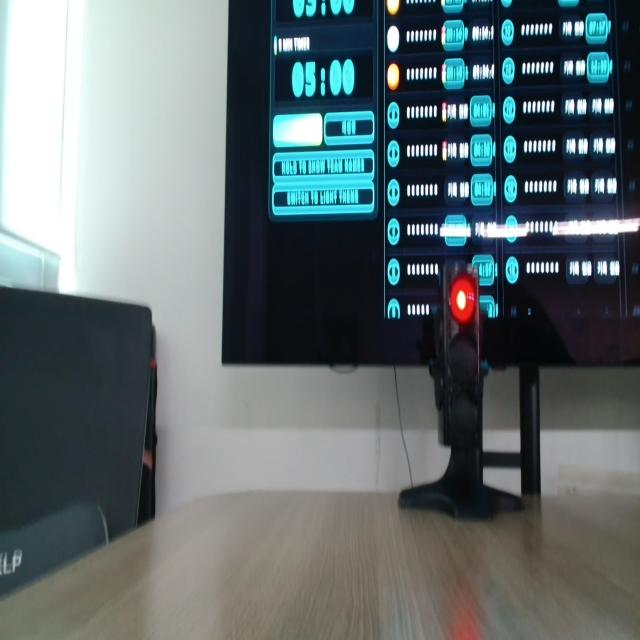red_light: (450, 275, 476, 324)
